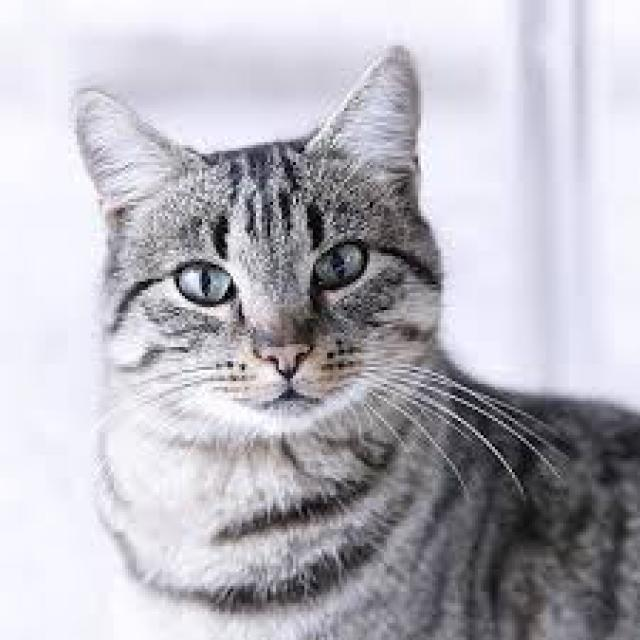Cat: (40, 40, 640, 640)
